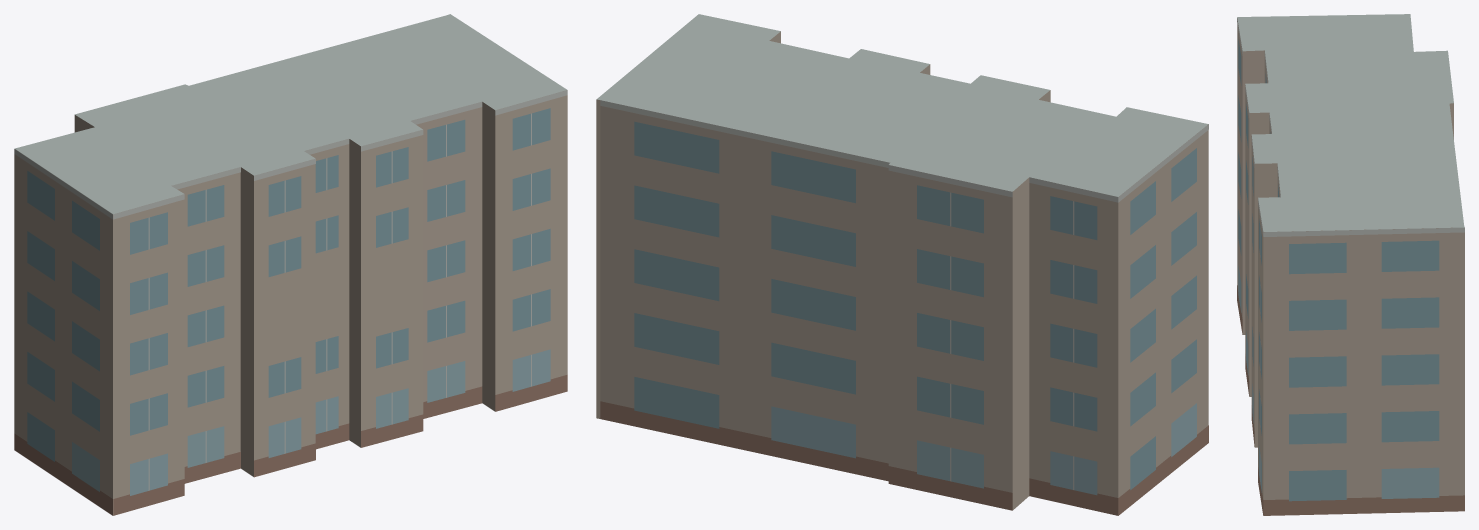
Rendered from survey-upis-32981930.glb.
The picture shows the model from 3 angles, left to right: view 1: azimuth 30°, elevation 25°; view 2: azimuth 150°, elevation 25°; view 3: azimuth 270°, elevation 25°; orthographic projection. The views are drawn at different scales.
Visible parts, largest first — view 1: survey-upis-32981930.tmp; view 2: survey-upis-32981930.tmp; view 3: survey-upis-32981930.tmp.
Boxes of the visible parts, x1,y1,x2,y2 form: survey-upis-32981930.tmp: (14, 14, 567, 515); survey-upis-32981930.tmp: (596, 14, 1208, 515); survey-upis-32981930.tmp: (1237, 14, 1464, 515).
Bounding box in the file's own units: 22.76 × 13.8 × 10.04.
